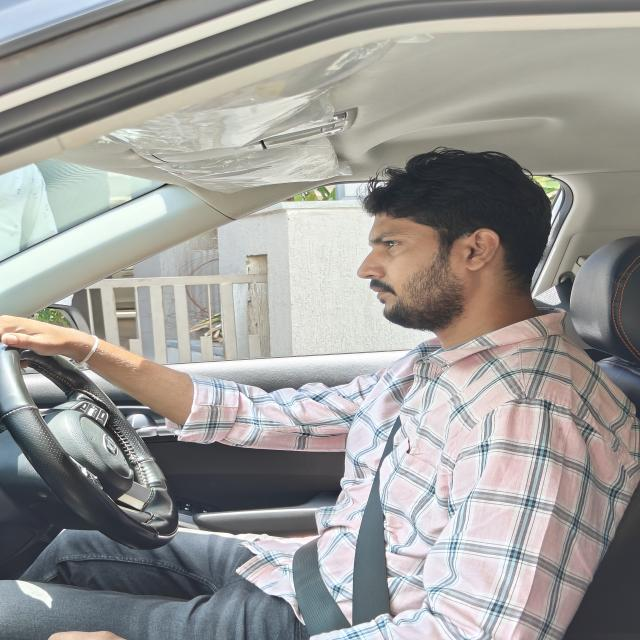seatbelt: (280, 362, 431, 640)
